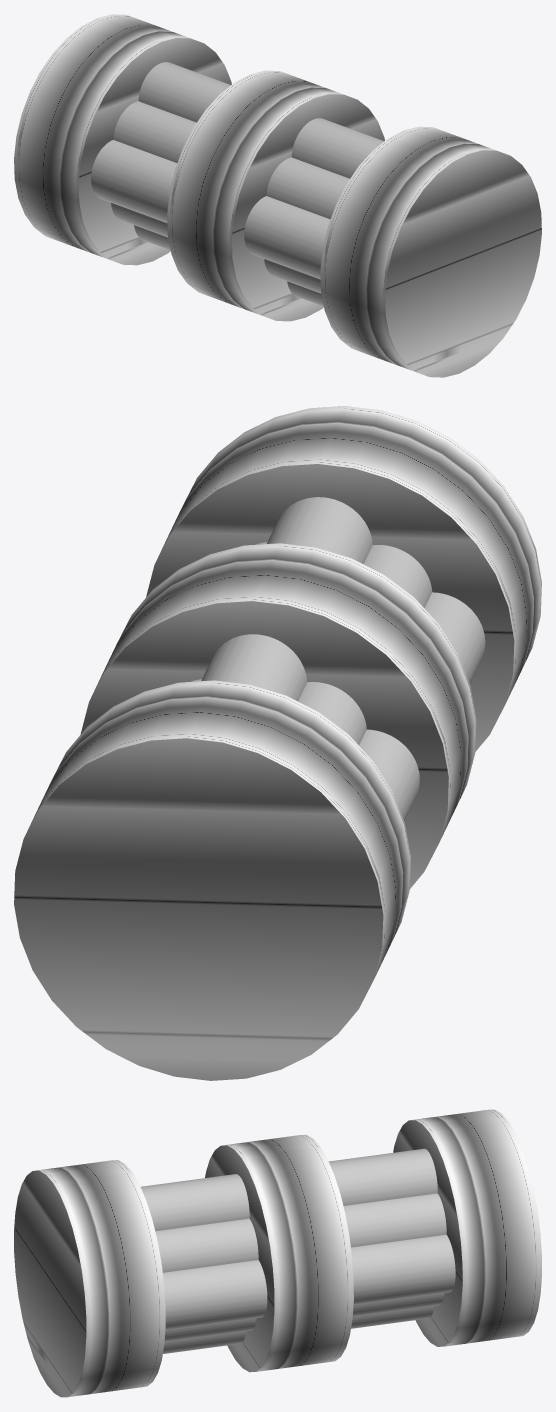
Rendered from batch_collectables.fbx.
3 renders of one model, top to bottom at view 1: azimuth 30°, elevation 25°; view 2: azimuth 150°, elevation 25°; view 3: azimuth 270°, elevation 25°, orthographic. The views are drawn at different scales.
Parts seen in each view (by area): view 1: Cylinder.003; view 2: Cylinder.003; view 3: Cylinder.003.
Boxes of the visible parts, bbox=[...] form: Cylinder.003: bbox=[14, 14, 541, 377]; Cylinder.003: bbox=[14, 406, 541, 1080]; Cylinder.003: bbox=[14, 1109, 541, 1397].
Bounding box in the file's own units: 1025 × 645 × 1467.
